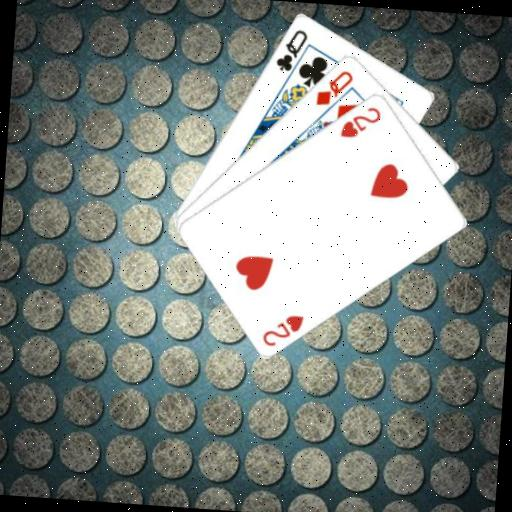2H: (336, 101, 384, 142), (259, 309, 307, 350)
QC: (272, 25, 310, 75)
QD: (313, 65, 356, 109)
